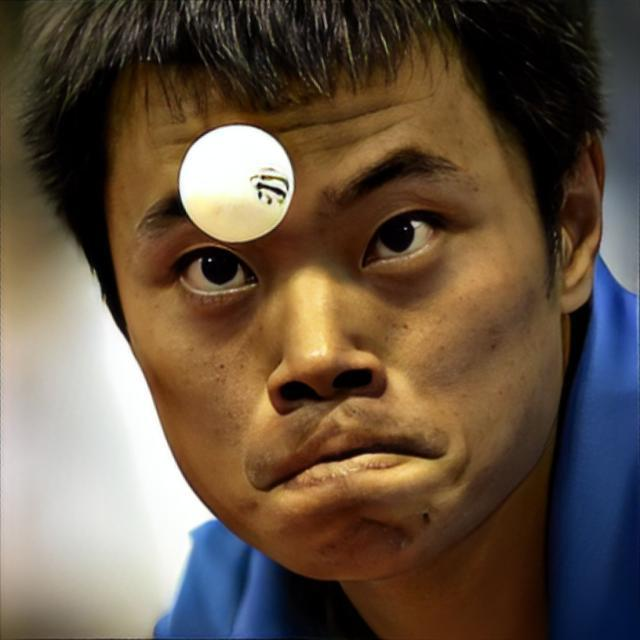surprise: (97, 9, 557, 582)
